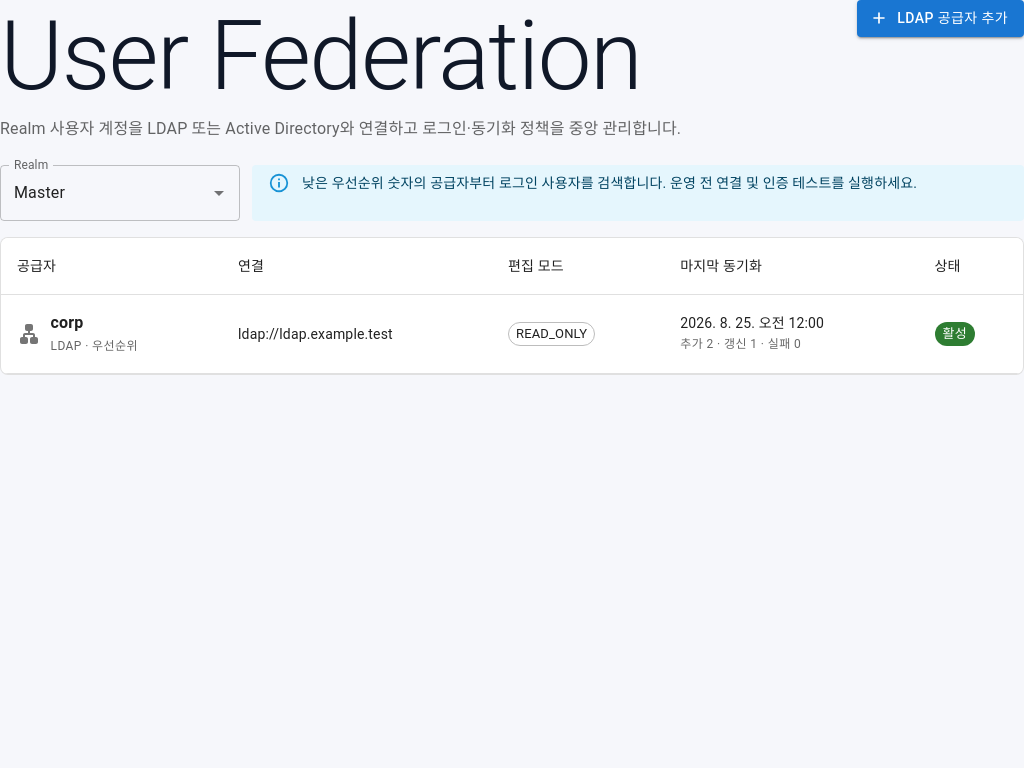
it: mappings with nothing to match against are distinguished from wrong ones
The width and height of the screenshot is (1024, 768).
Click the text "corp" at (67, 322), box [51,313,84,332]
(page scrolled)
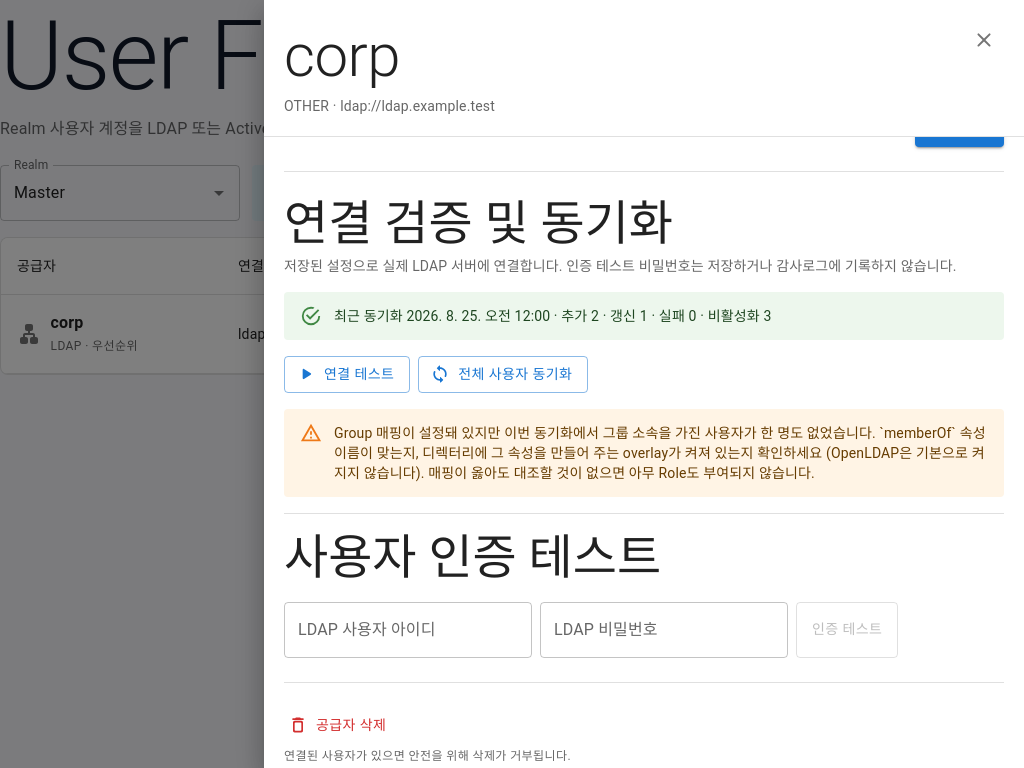
Check: the text "overlay가 켜져 있는지" is shown, box [334,425,986,481]
